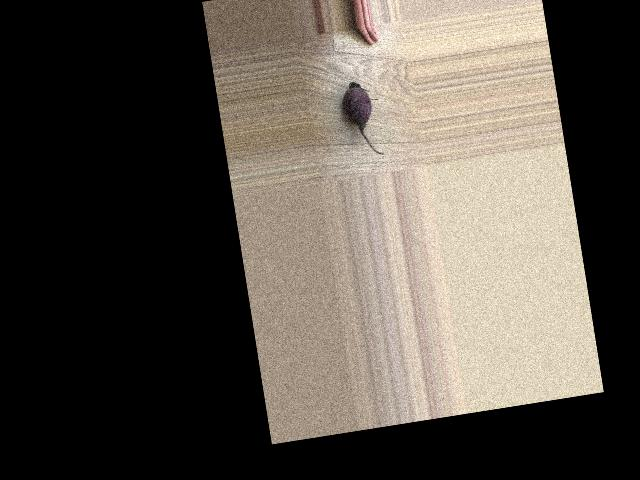beet: (339, 79, 386, 160)
